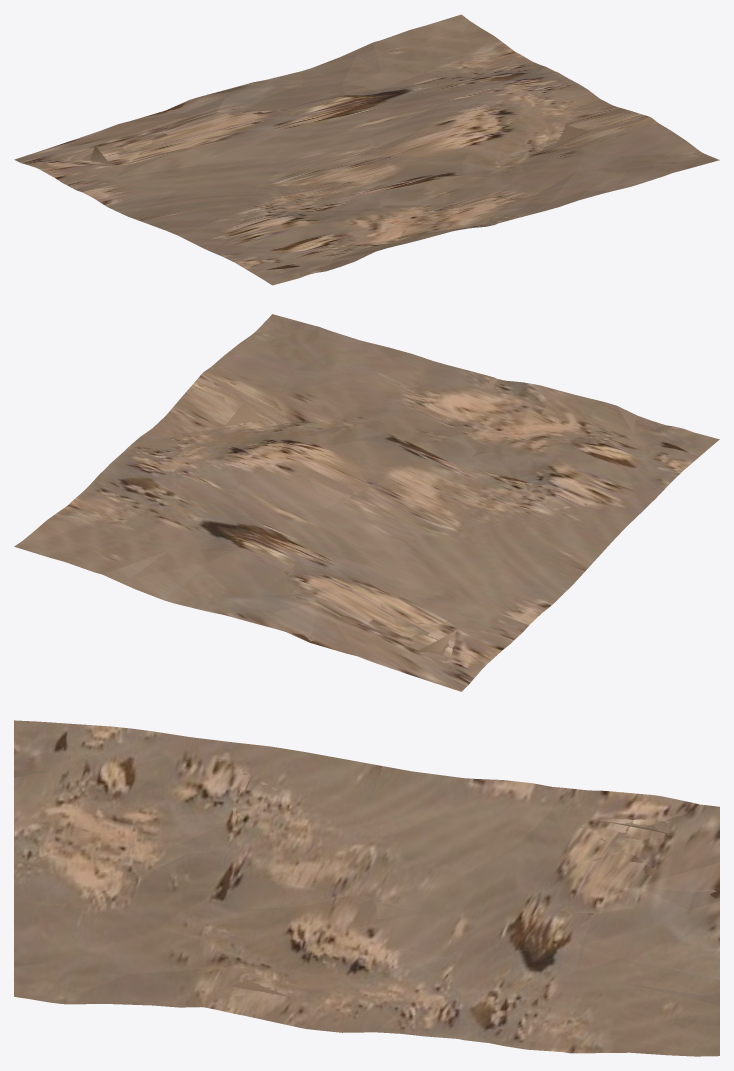
The picture shows the model from 3 angles, top to bottom: view 1: azimuth 30°, elevation 25°; view 2: azimuth 150°, elevation 25°; view 3: azimuth 270°, elevation 25°; orthographic projection. The views are drawn at different scales.
Bounding box in the file's own units: 2.09 × 0.3545 × 2.09.
Materials: 2 (2 with a texture image).
